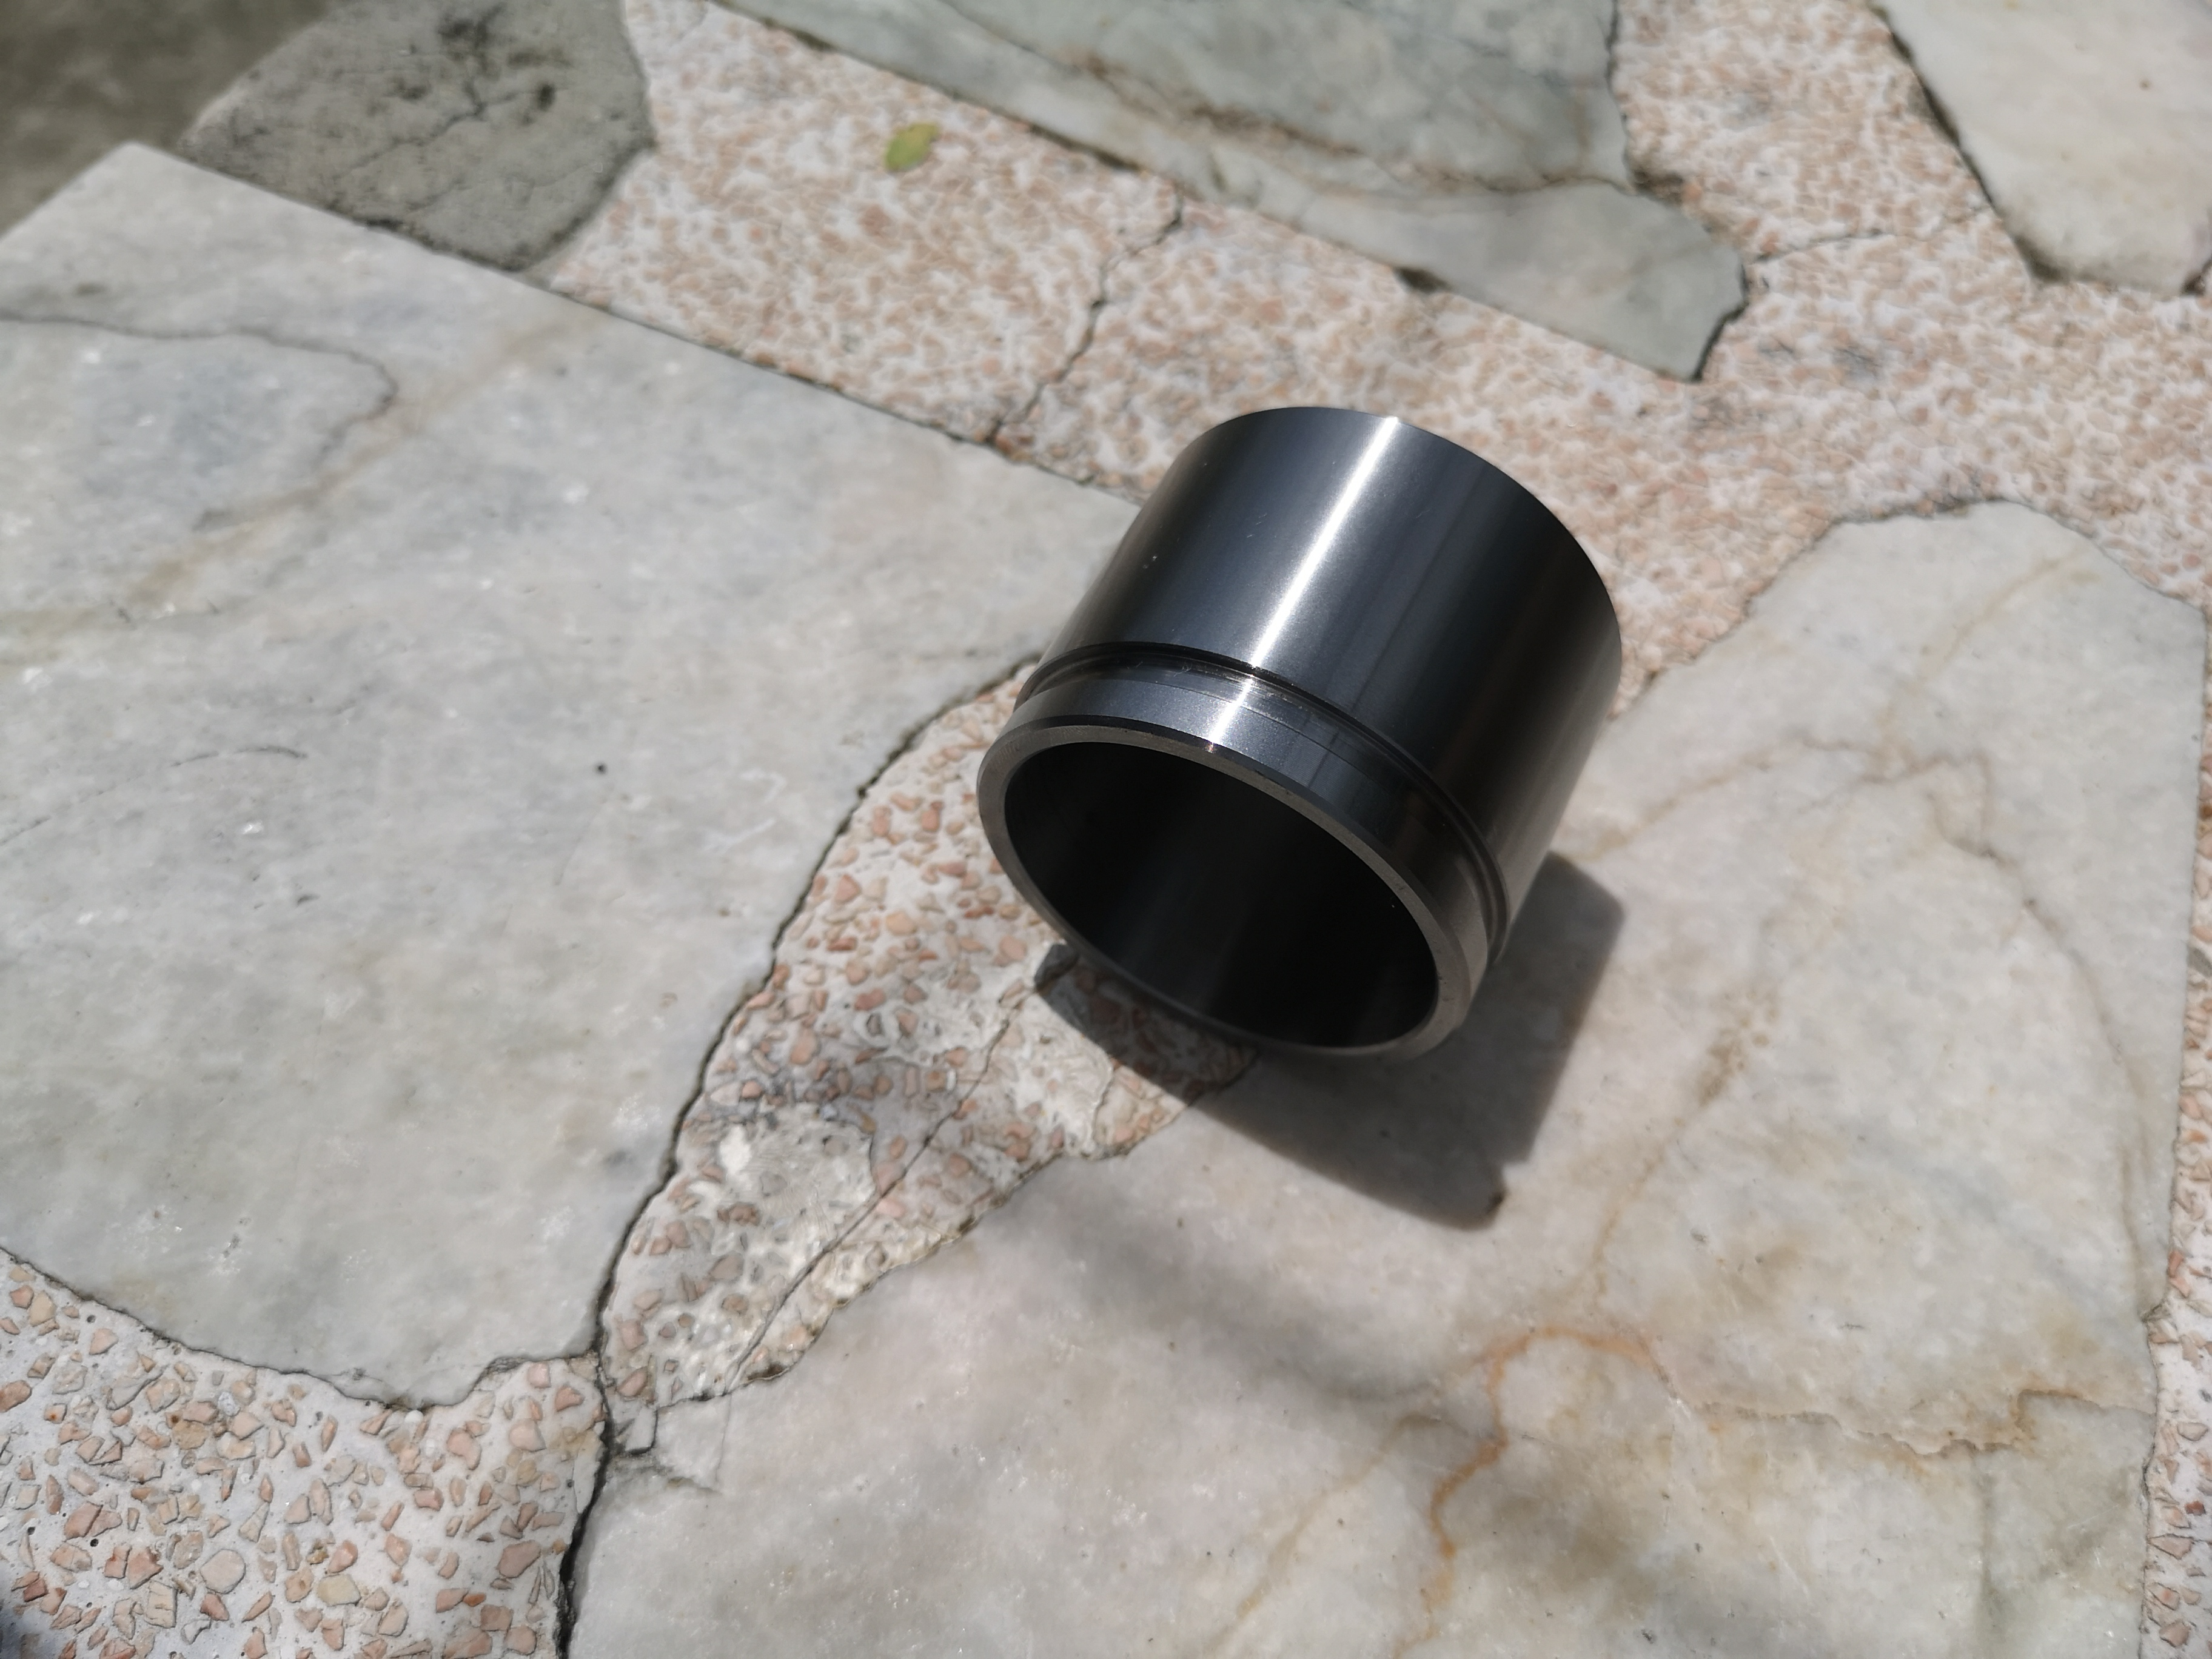ลูกสูบดิสเบรค: (941, 387, 1635, 1082)
